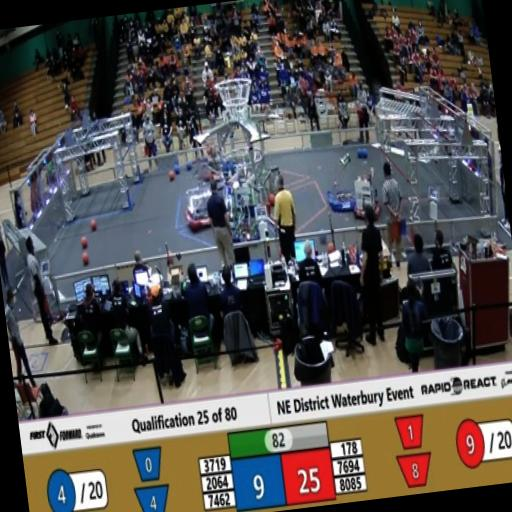robot: (218, 171, 266, 252), (177, 175, 226, 240), (320, 148, 359, 218), (345, 159, 385, 226)
